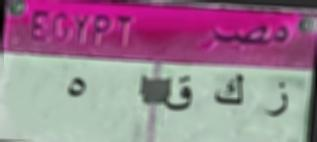5: (60, 72, 90, 103)
kaaf: (211, 70, 246, 113)
qaaf: (164, 70, 197, 118)
zay: (257, 76, 292, 124)
